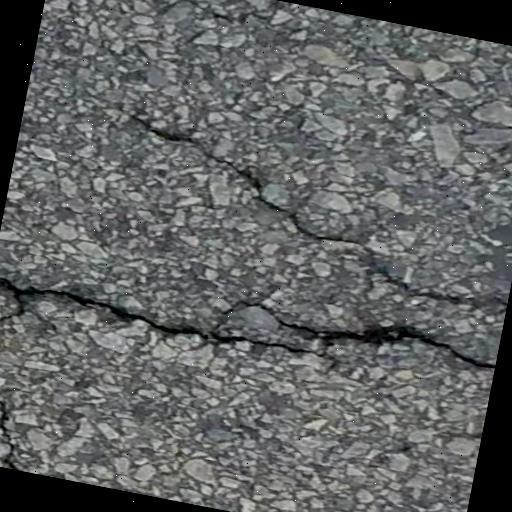spalling: (158, 121, 510, 311), (0, 264, 494, 377)
